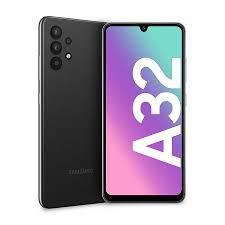Smartphone: (98, 24, 182, 203), (44, 15, 105, 201)
